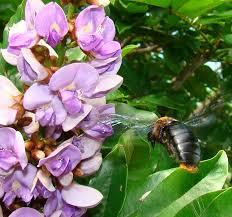Meliponula: (140, 110, 209, 175)
